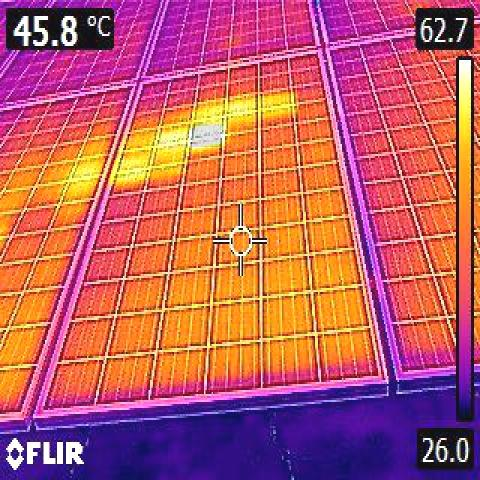fault: (192, 124, 221, 147)
